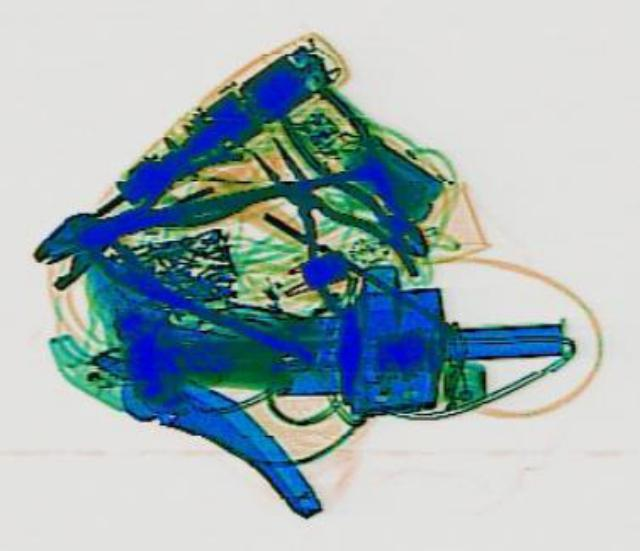Pliers: (212, 118, 422, 315), (264, 79, 456, 270), (61, 144, 266, 261)
